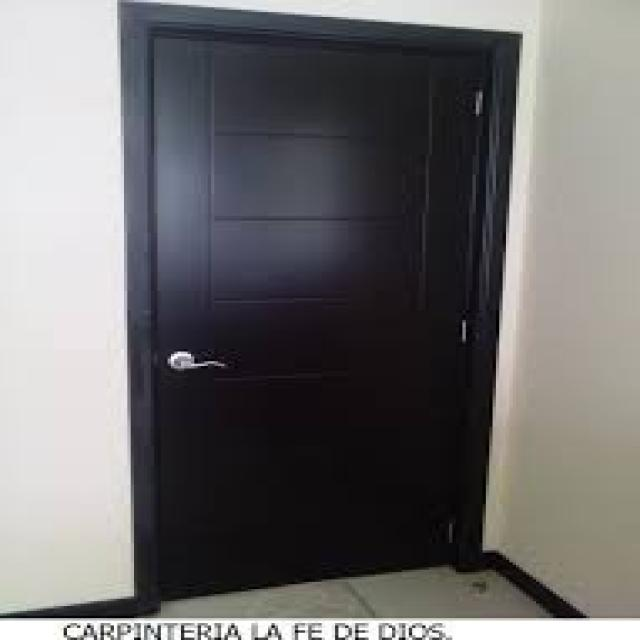door: (127, 7, 516, 601)
